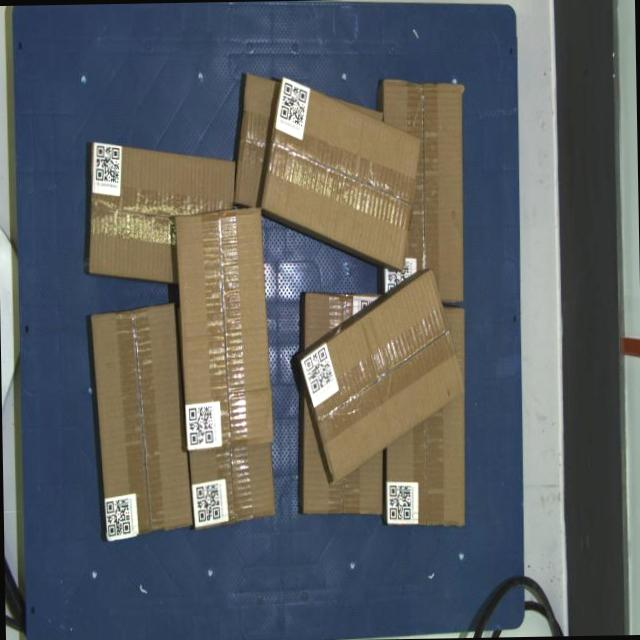box: (298, 268, 466, 484), (258, 73, 422, 273), (90, 301, 192, 541), (174, 207, 274, 450)
